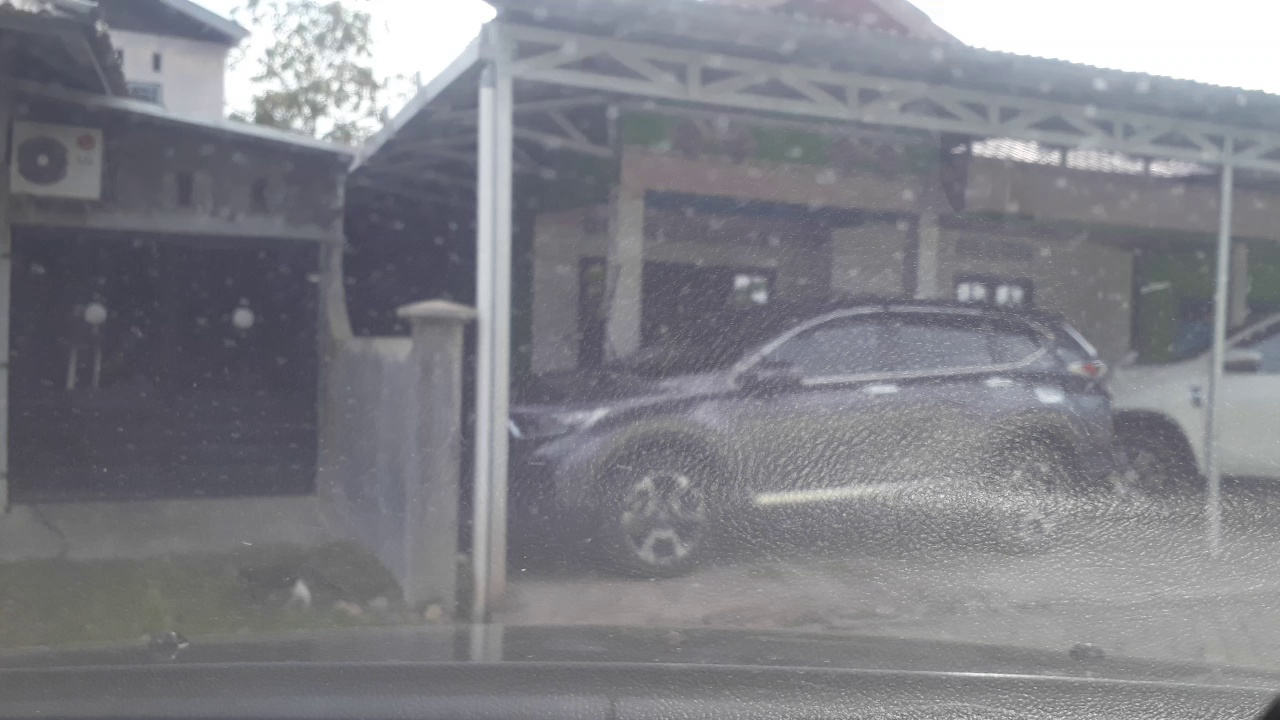car: (464, 294, 1123, 581), (1093, 292, 1277, 525)
